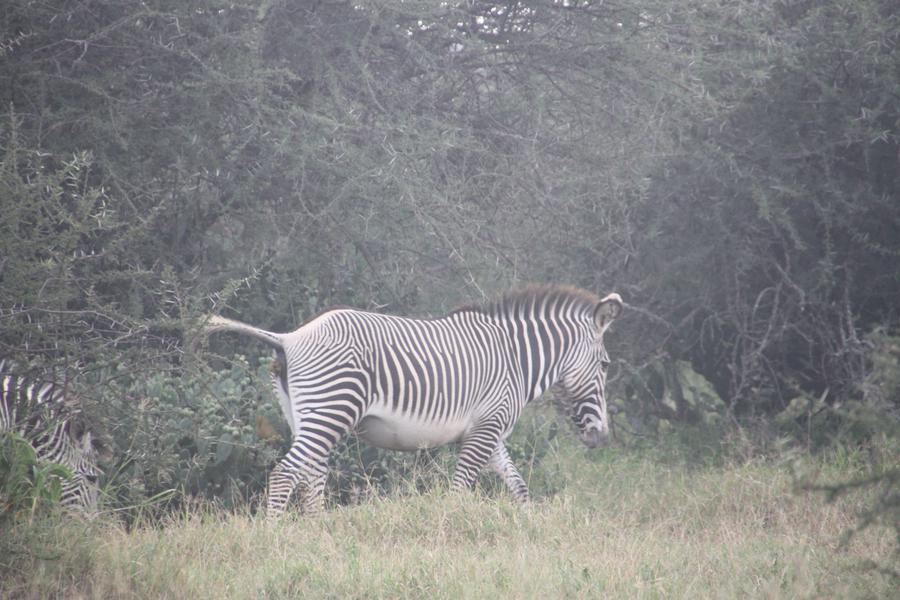zebra_grevys: (282, 295, 509, 438)
